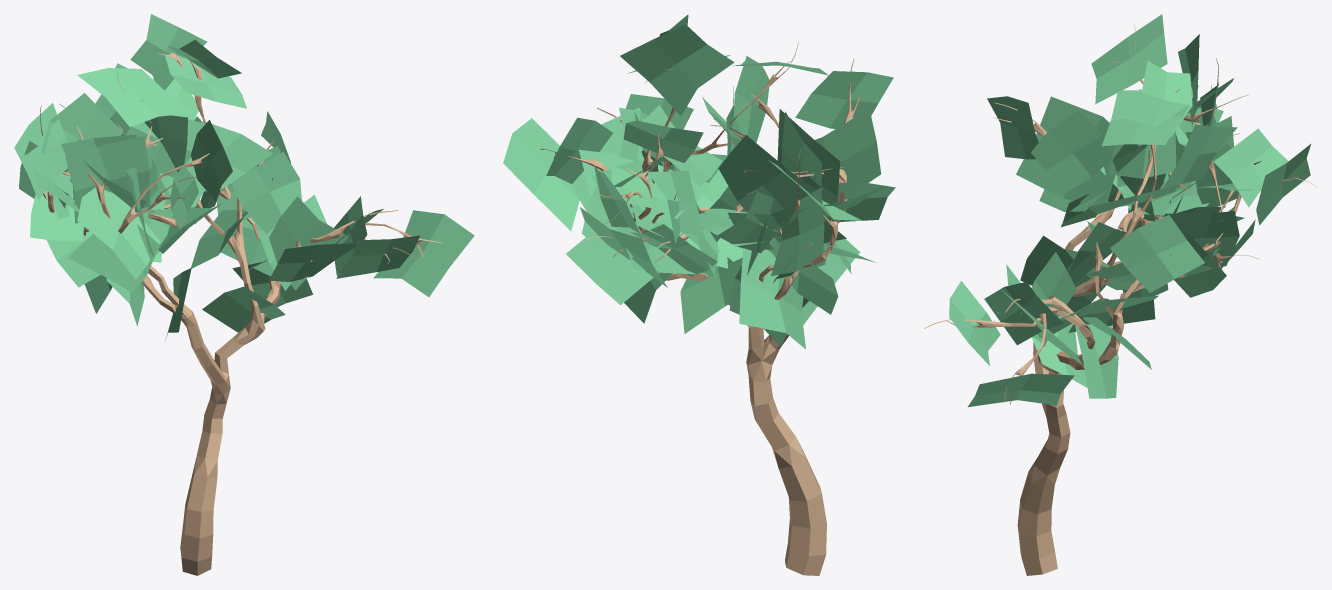
File: tree3.fbx
3 renders of one model, left to right at view 1: azimuth 30°, elevation 25°; view 2: azimuth 150°, elevation 25°; view 3: azimuth 270°, elevation 25°, orthographic. The views are drawn at different scales.
Parts seen in each view (by area): view 1: tree03_mesh; view 2: tree03_mesh; view 3: tree03_mesh.
Boxes of the visible parts, box(x1,y1,x2,y2) form: tree03_mesh: box(14, 14, 474, 575); tree03_mesh: box(503, 14, 895, 575); tree03_mesh: box(924, 14, 1317, 575).
Bounding box in the file's own units: 215 × 280 × 180.
